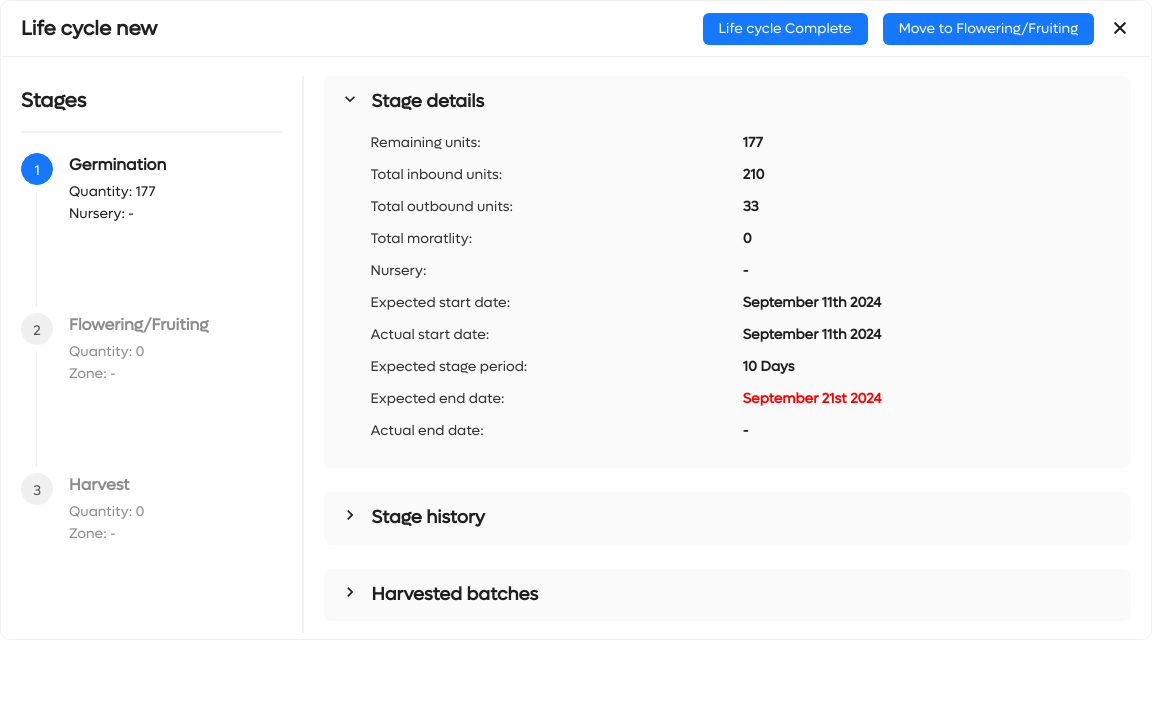
Scenario: Add Update lifecycle page › Complete lifecycle process loading
Click the button "Life cycle Complete" at (785, 28), box [703, 12, 868, 44]
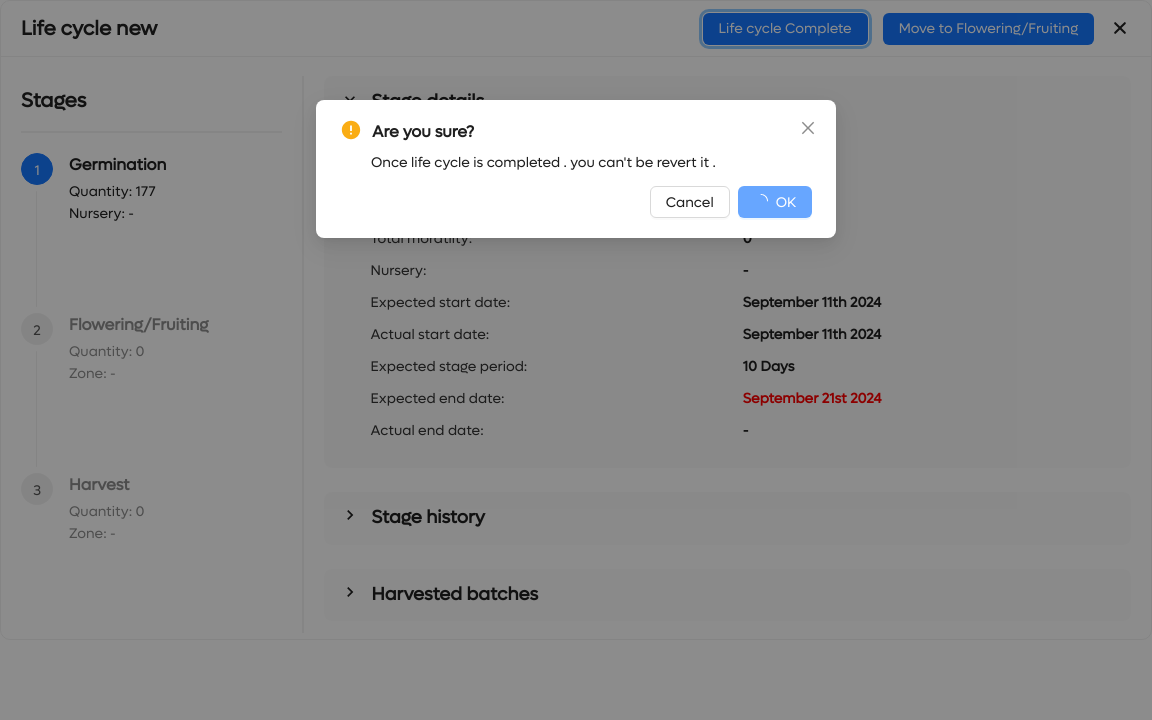
Expected: the button named "loading OK" is shown, [738, 186, 812, 218]
